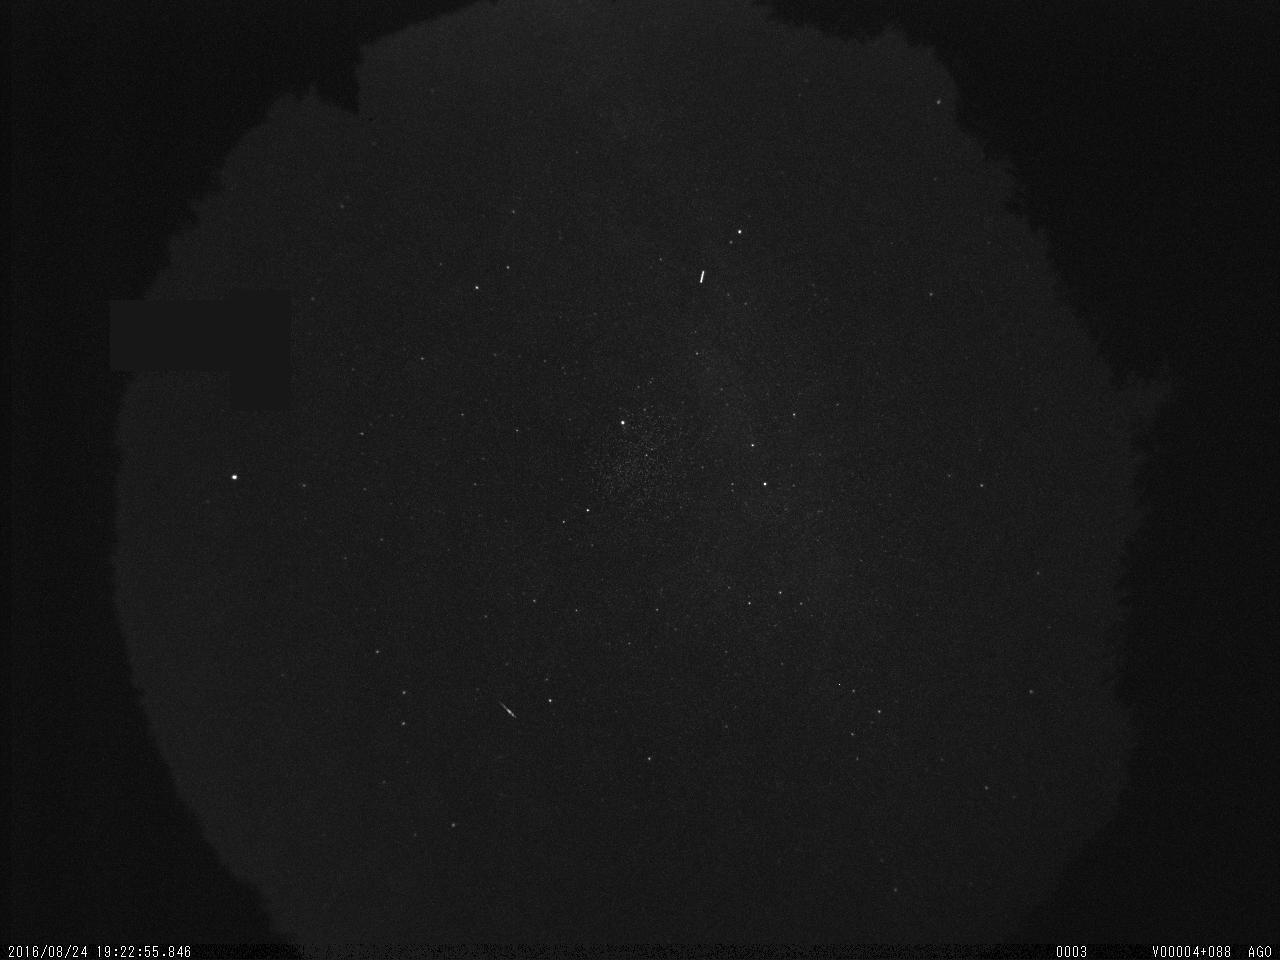Meteor: (497, 696, 517, 720)
